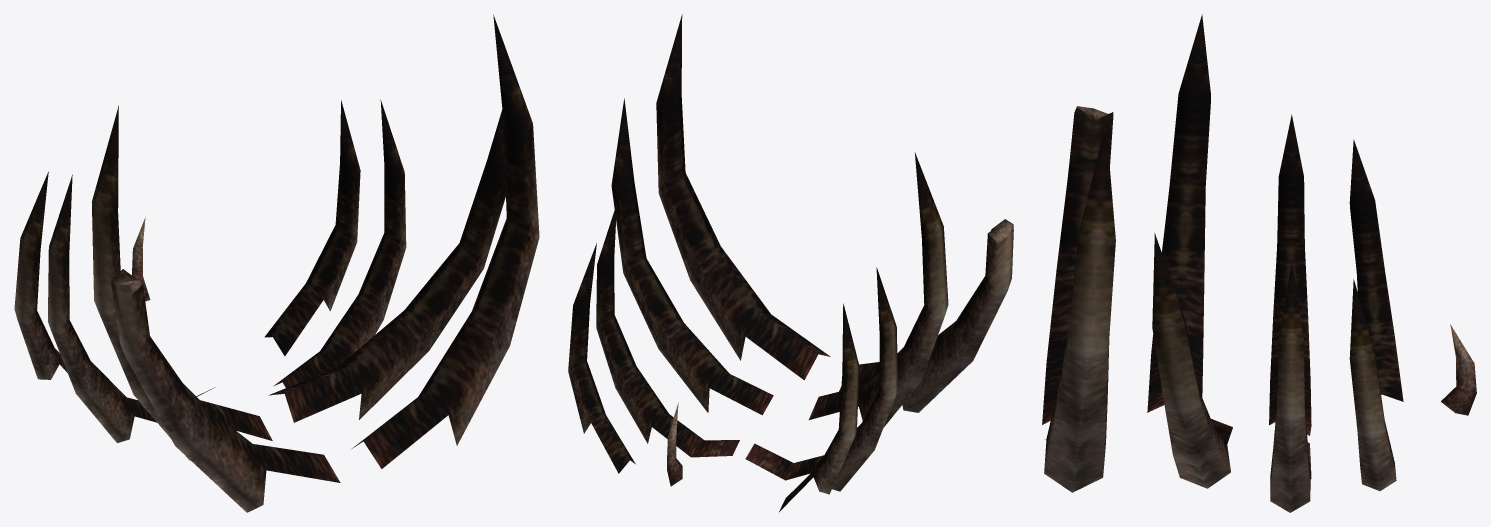
The model's file is ob-11-03-bonetunnel04_01.glb.
The picture shows the model from 3 angles, left to right: view 1: azimuth 30°, elevation 25°; view 2: azimuth 150°, elevation 25°; view 3: azimuth 270°, elevation 25°; orthographic projection. The views are drawn at different scales.
Parts seen in each view (by area): view 1: Mesh01; view 2: Mesh01; view 3: Mesh01.
Part boxes in pixels (left/top/right/bottom): Mesh01: left=14, top=14, right=539, bottom=512; Mesh01: left=568, top=14, right=1013, bottom=511; Mesh01: left=1042, top=14, right=1476, bottom=512.
Size of the model in its own units: 19.44 by 18.5 by 17.37.
1 material, 1 textured.
